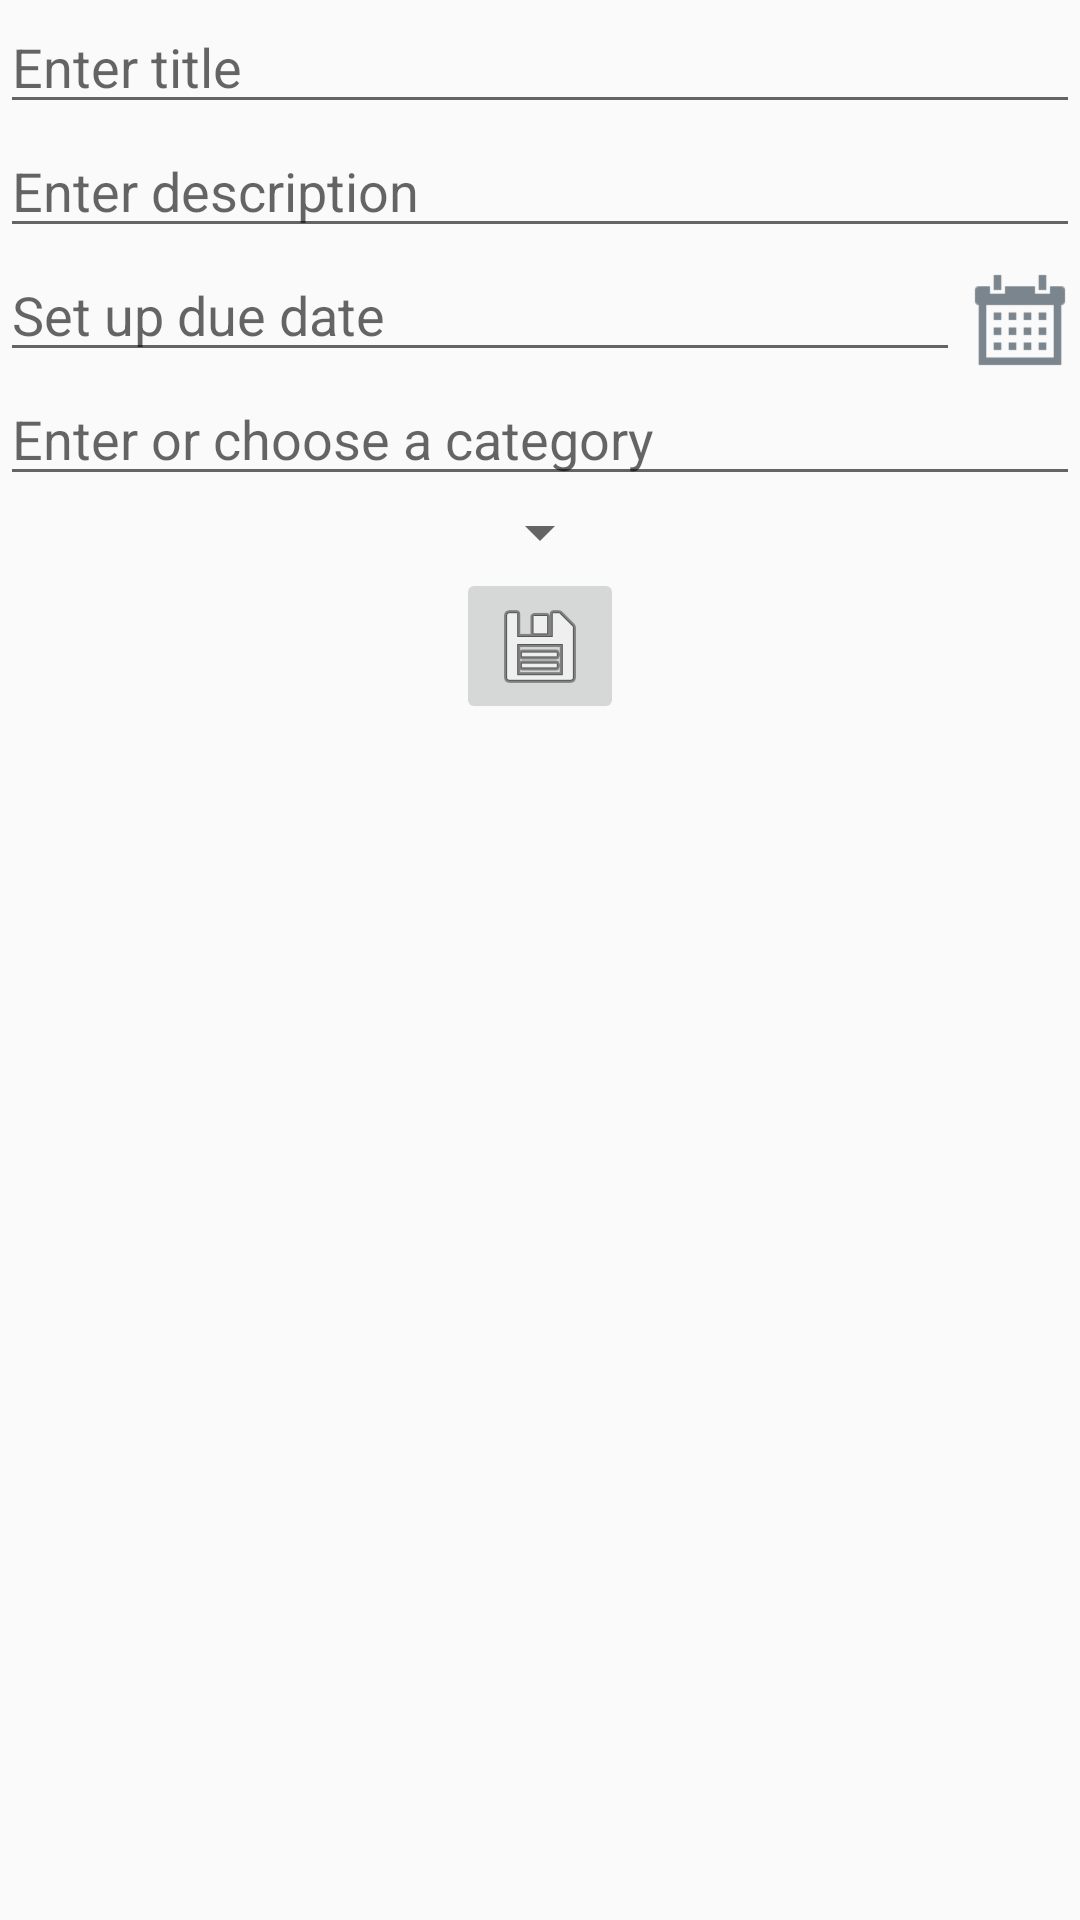

Where to tap for icons on this 1080 × 1920 app screen, as (x=x, y=y):
calendar: (x=1020, y=320)
save: (x=540, y=646)
